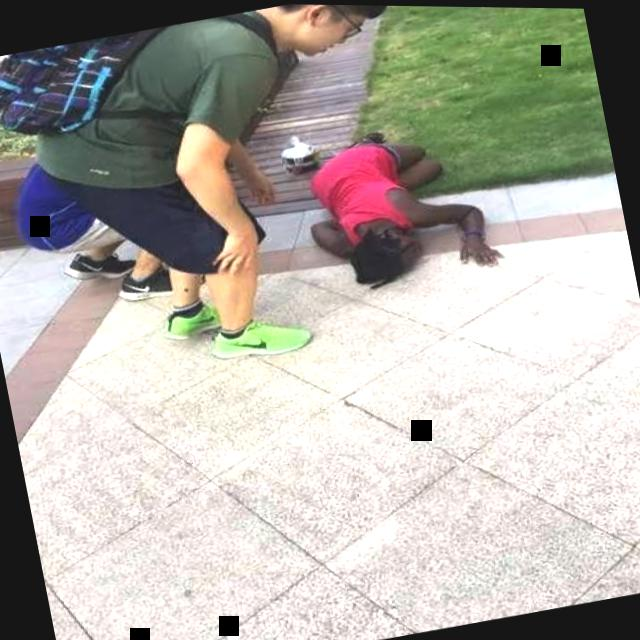Fall-Detected: (274, 95, 506, 322)
